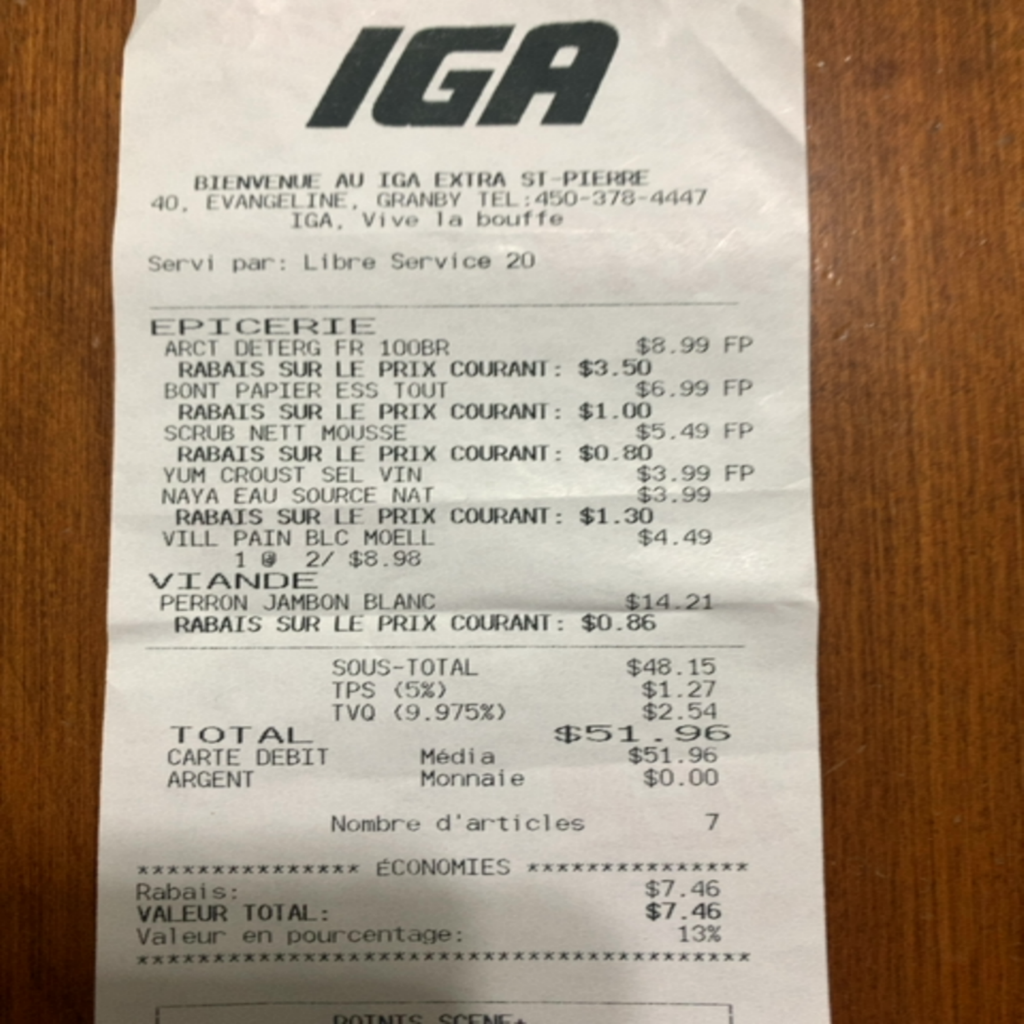recipt: (96, 0, 831, 1020)
